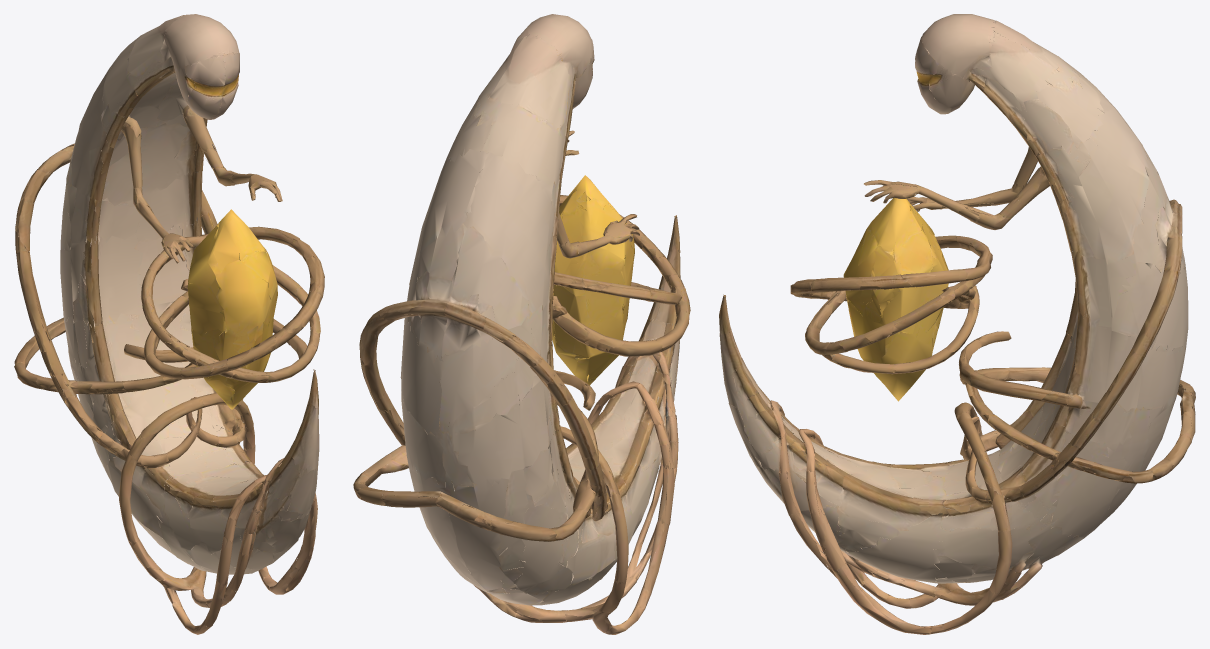
3 renders of one model, left to right at view 1: azimuth 30°, elevation 25°; view 2: azimuth 150°, elevation 25°; view 3: azimuth 270°, elevation 25°, orthographic. The views are drawn at different scales.
Visible parts, largest first — view 1: Mesh_0; view 2: Mesh_0; view 3: Mesh_0.
Part boxes in pixels (bbox=[...]): Mesh_0: bbox=[14, 14, 324, 634]; Mesh_0: bbox=[353, 14, 690, 634]; Mesh_0: bbox=[719, 14, 1195, 634].
Size of the model in its own units: 0.6931 by 1.9 by 1.35.
Materials: 1 (1 with a texture image).
